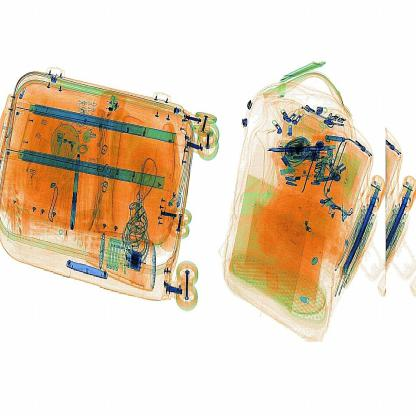pliers: (265, 142, 339, 156)
